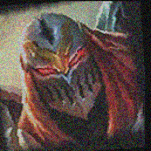Zed: (1, 1, 140, 149)
